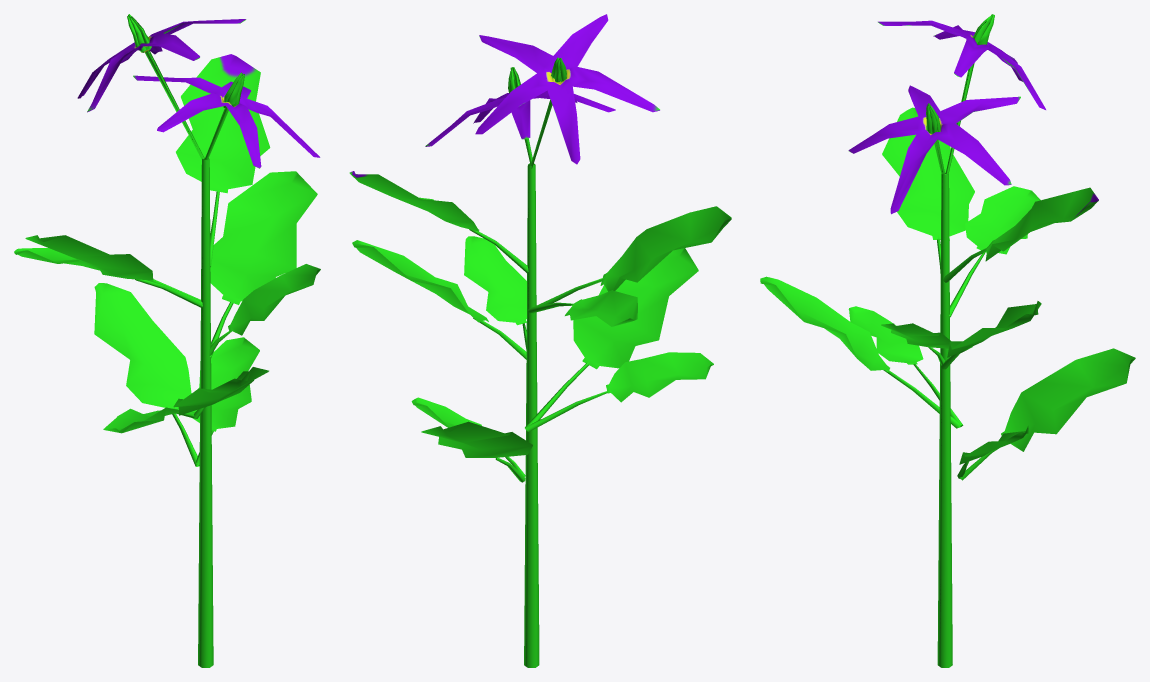
File: planta_solanum.fbx
3 renders of one model, left to right at view 1: azimuth 30°, elevation 25°; view 2: azimuth 150°, elevation 25°; view 3: azimuth 270°, elevation 25°, orthographic. The views are drawn at different scales.
Parts seen in each view (by area): view 1: base stem.026; view 2: base stem.026; view 3: base stem.026.
Boxes of the visible parts, x1=… form: base stem.026: x1=14, y1=14, x2=320, y2=667; base stem.026: x1=349, y1=14, x2=731, y2=667; base stem.026: x1=760, y1=14, x2=1135, y2=667.
Size of the model in its own units: 895 by 1690 by 919.
Materials: 1 (1 with a texture image).
